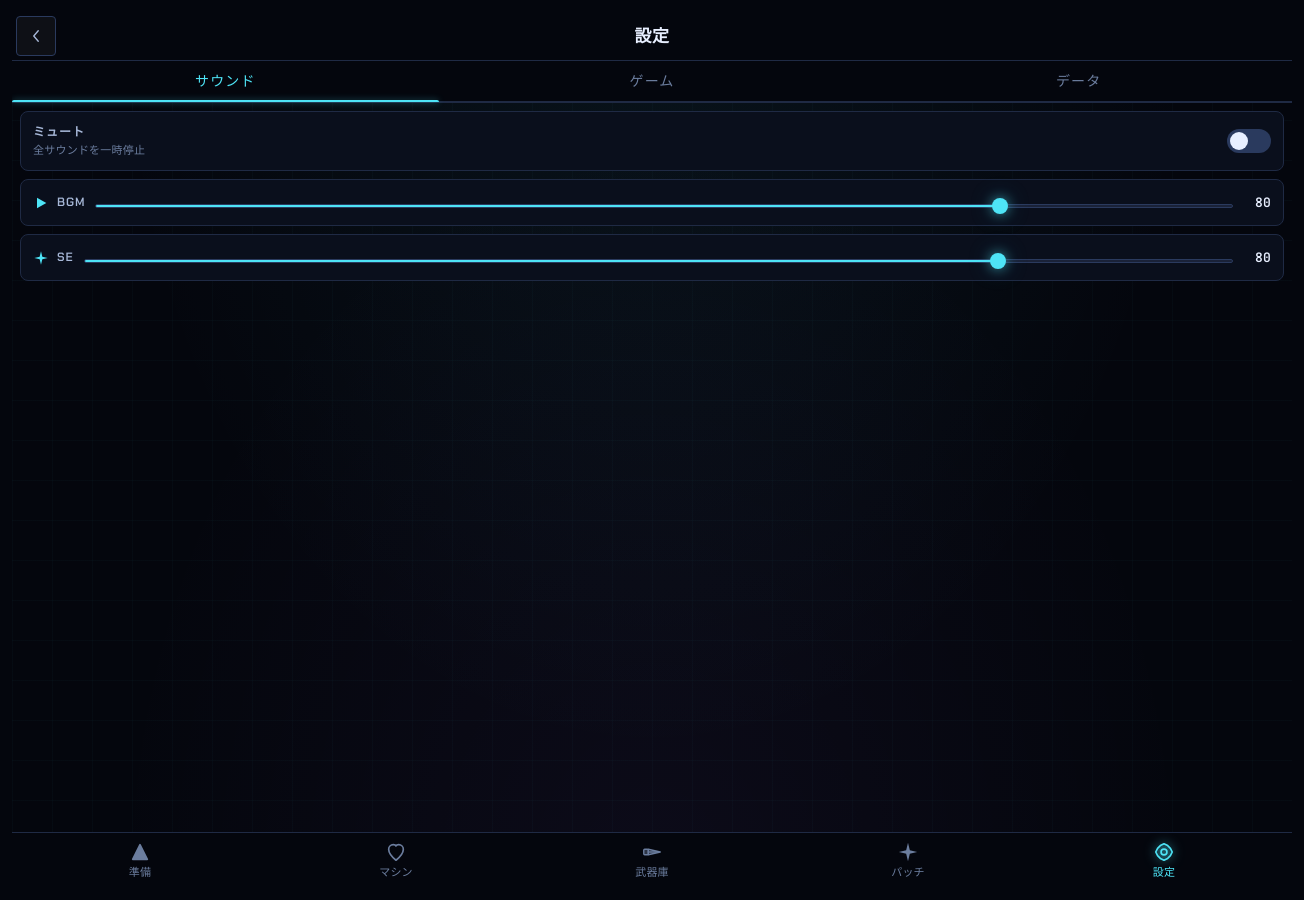
Test: SettingsScreen › 「ゲーム」タブをクリックすると GameSettingsTab が表示される
Click the tab "ゲーム": (652, 81) [439,61,865,101]
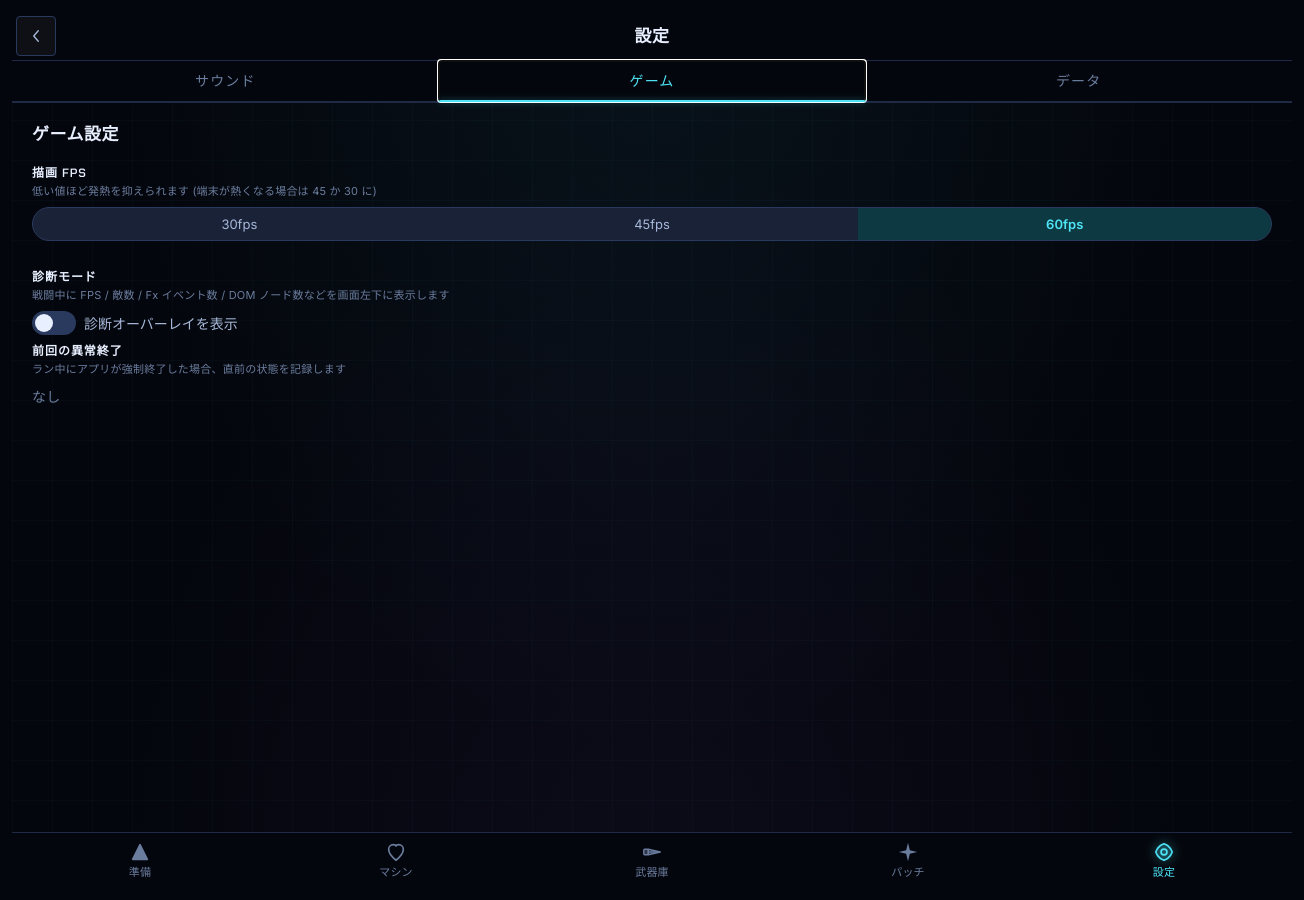
Result: the heading "ゲーム設定" is shown at [32,123,119,145]
